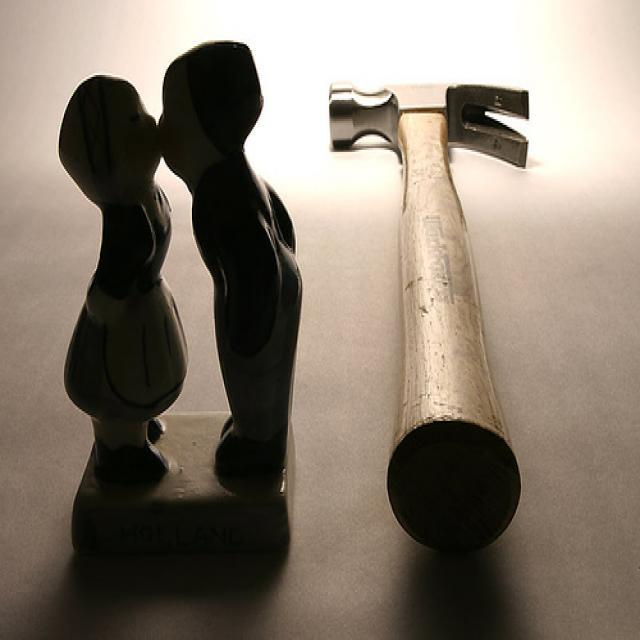hammer: (314, 62, 569, 566)
